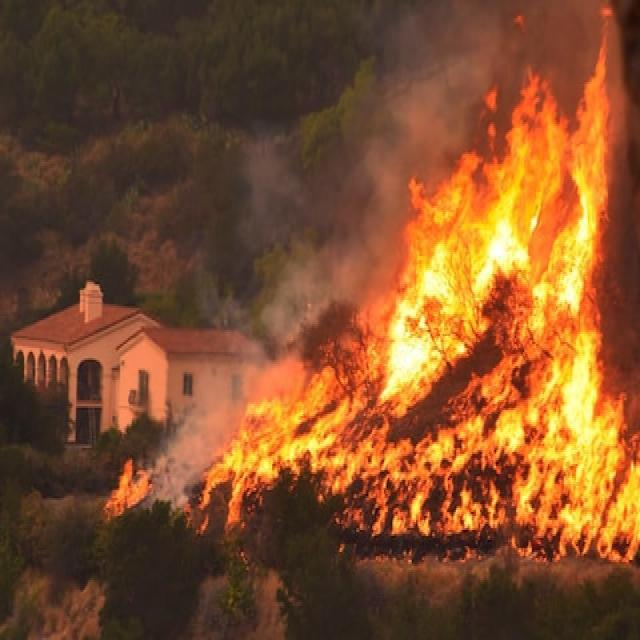Fire: (404, 70, 638, 570), (232, 302, 396, 596), (103, 454, 149, 520)
Smoke: (265, 152, 397, 299), (153, 346, 284, 484), (394, 0, 498, 153)
